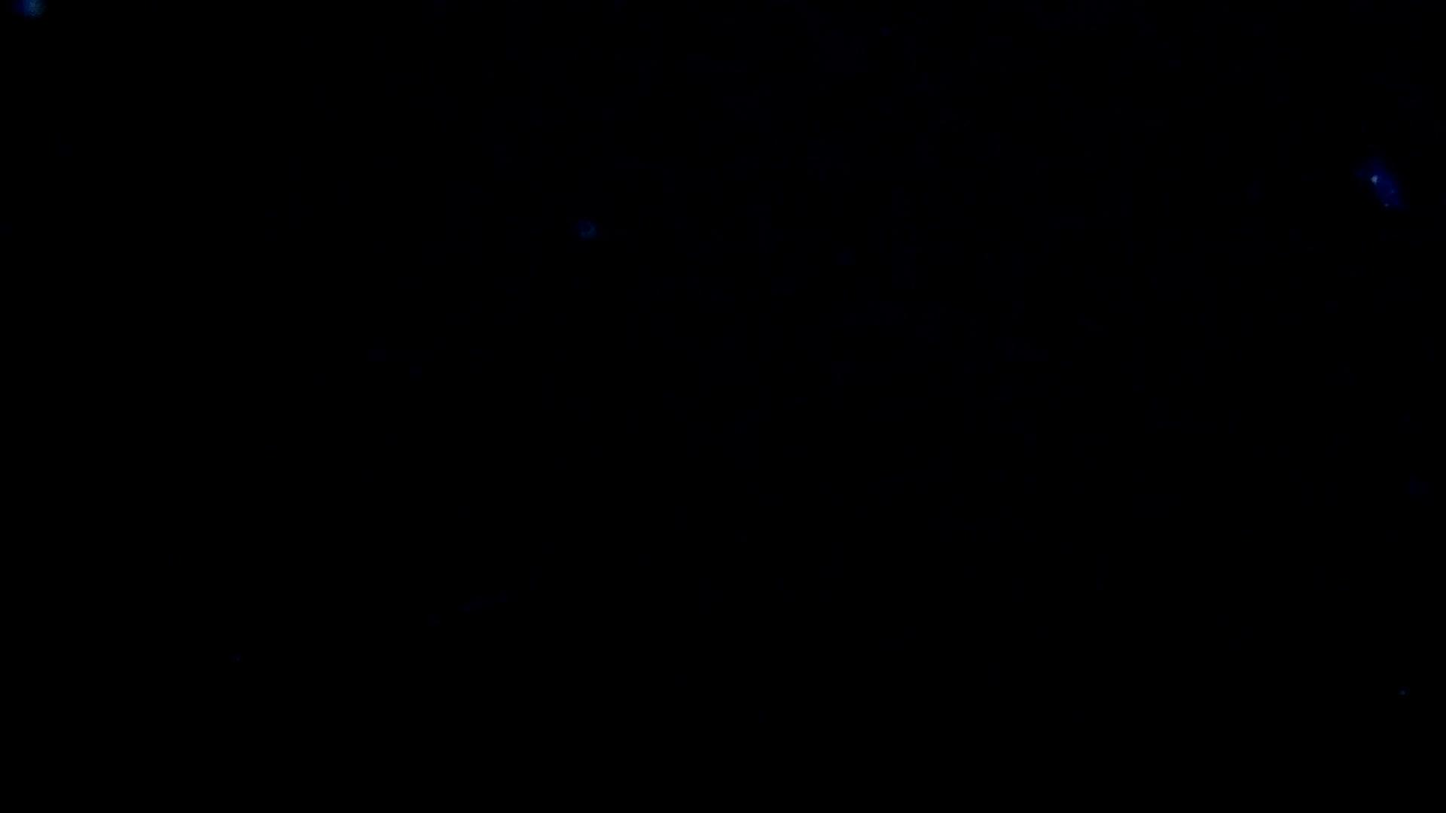organism: (1348, 156, 1405, 212)
